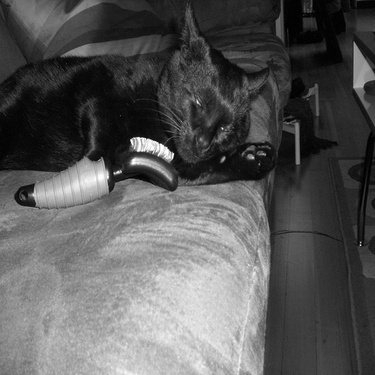cat: (1, 8, 283, 183)
